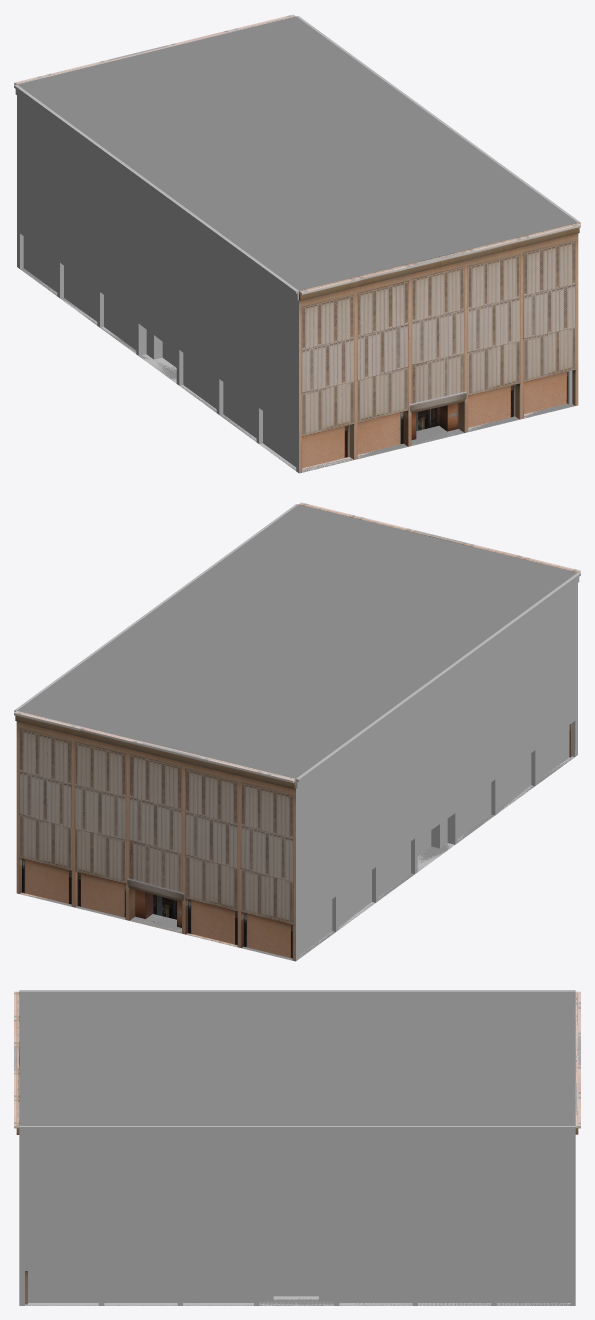
The model's file is Farmer.FBX.
The picture shows the model from 3 angles, top to bottom: view 1: azimuth 30°, elevation 25°; view 2: azimuth 150°, elevation 25°; view 3: azimuth 270°, elevation 25°; orthographic projection.
Visible parts, largest first — view 1: Box001; view 2: Box001; view 3: Box001.
Part boxes in pixels (box(x1,y1,x2,y2)): Box001: box(14, 14, 580, 473); Box001: box(14, 502, 580, 961); Box001: box(14, 990, 580, 1305).
Size of the model in its own units: 40.78 by 25 by 71.33.
